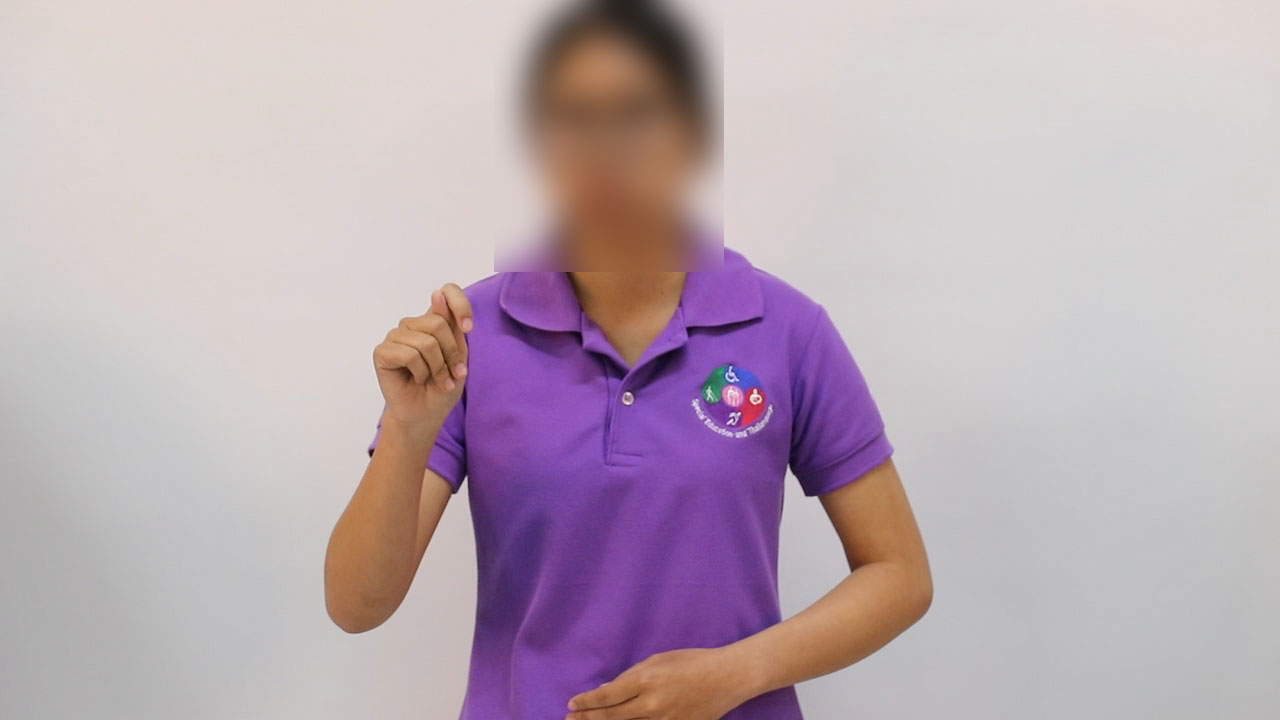tor: (335, 263, 514, 447)
